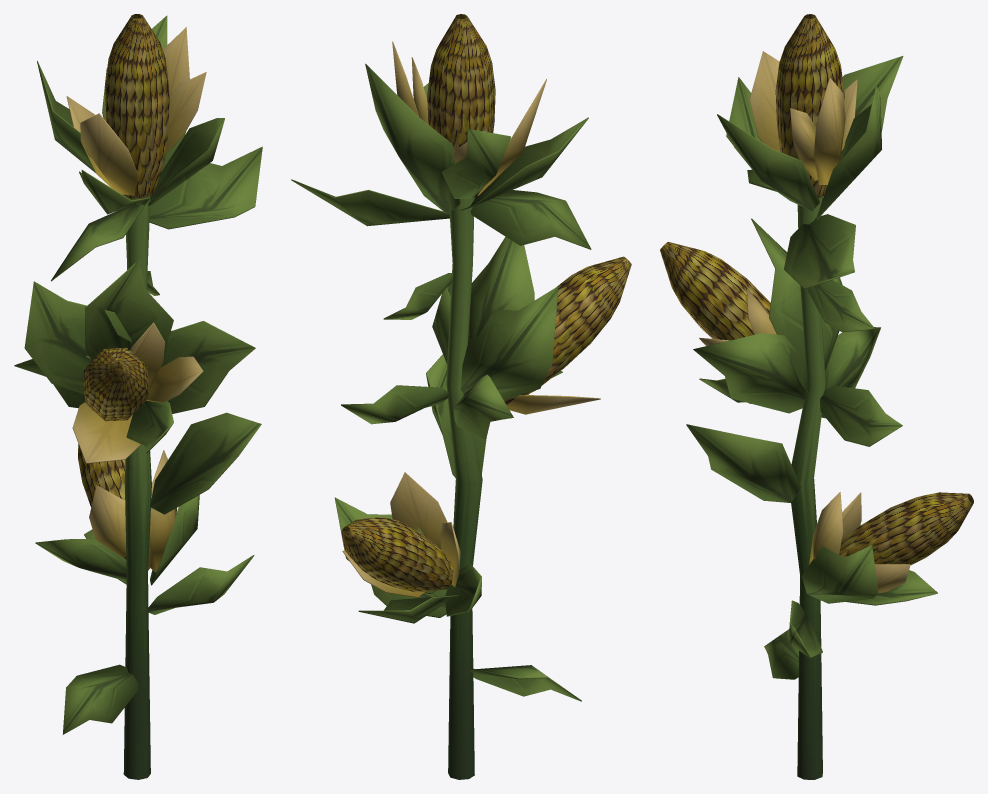
The model's file is Maiz_04.fbx.
3 views of the same model, side by side, from view 1: azimuth 30°, elevation 25°; view 2: azimuth 150°, elevation 25°; view 3: azimuth 270°, elevation 25° (orthographic).
Parts seen in each view (by area): view 1: Maiz_4; view 2: Maiz_4; view 3: Maiz_4.
Part boxes in pixels (x1,y1,x2,y2): Maiz_4: (14, 14, 262, 779); Maiz_4: (291, 14, 631, 779); Maiz_4: (660, 14, 973, 779).
Bounding box in the file's own units: 60.84 × 172 × 64.57.
